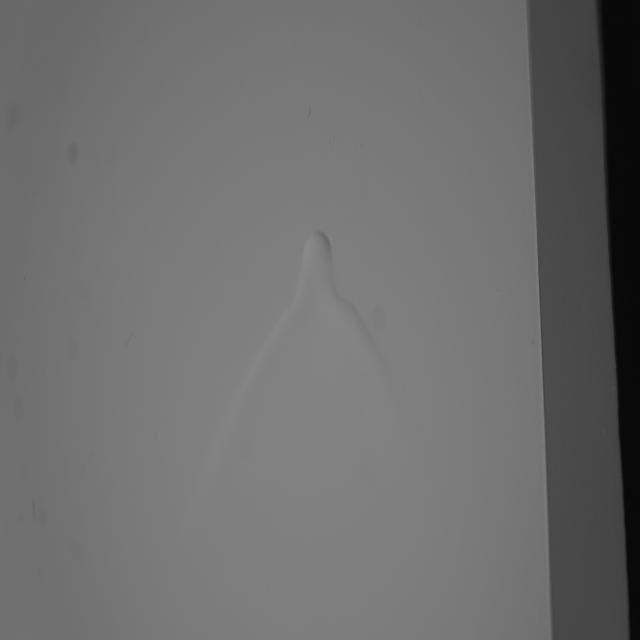paint drips: (205, 219, 434, 525)
